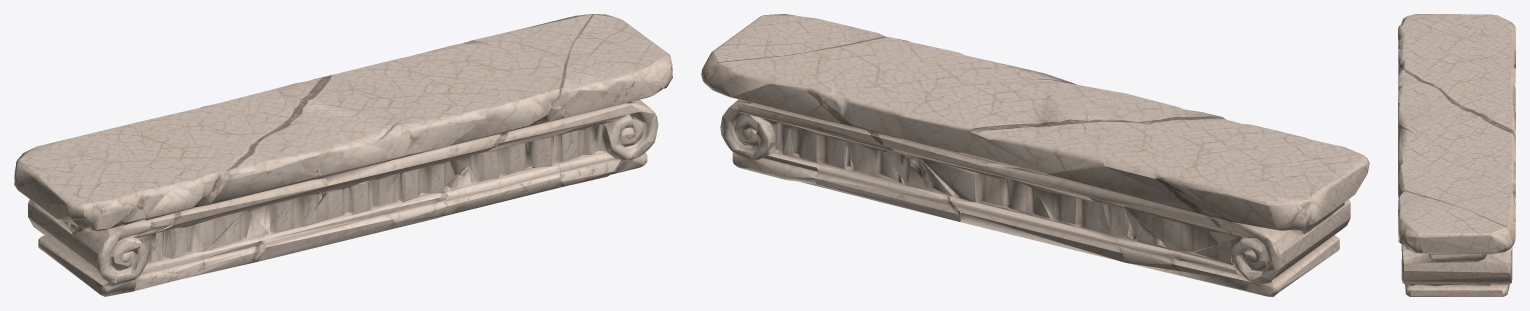
Rendered from marble-frieze.glb.
The picture shows the model from 3 angles, left to right: view 1: azimuth 30°, elevation 25°; view 2: azimuth 150°, elevation 25°; view 3: azimuth 270°, elevation 25°; orthographic projection. The views are drawn at different scales.
Parts seen in each view (by area): view 1: marble-frieze; view 2: marble-frieze; view 3: marble-frieze.
Boxes of the visible parts, x1,y1,x2,y2 form: marble-frieze: (14,14,672,296); marble-frieze: (701,14,1369,296); marble-frieze: (1398,14,1515,296).
Bounding box in the file's own units: 1.9 × 0.3053 × 0.4278.
Materials: 1 (1 with a texture image).
